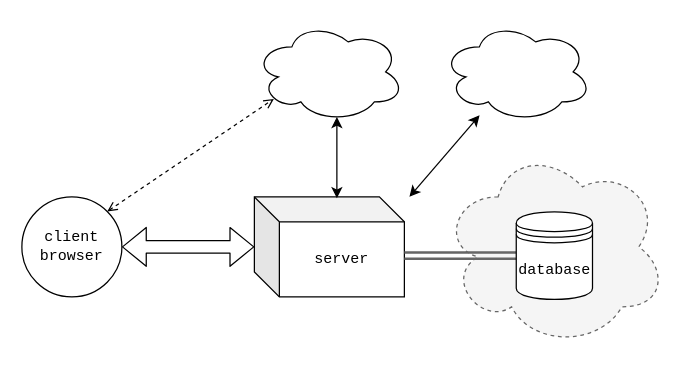
Image size: 689x369. Some labels were removed from this diagram. Each missing label, with the box of its shape:
email service: (441, 21, 592, 122)
payment service: (253, 21, 404, 122)
